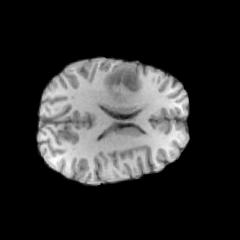glioma: (102, 63, 144, 102)
